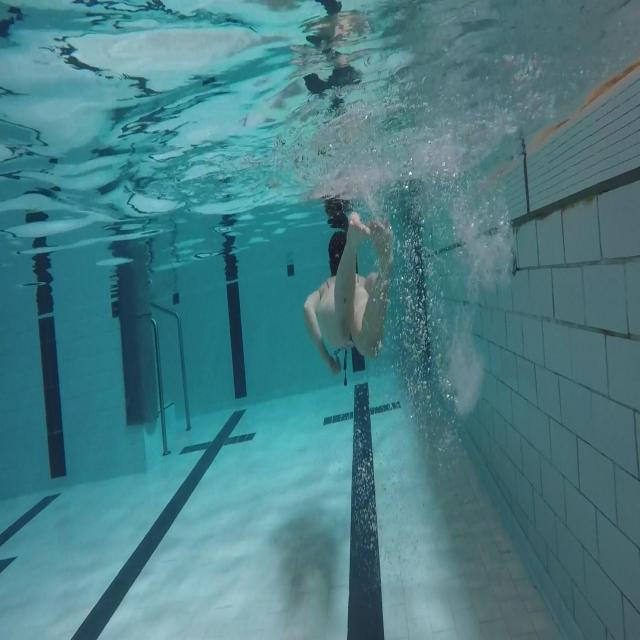human: (303, 210, 393, 380)
